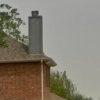Chimney: (25, 7, 52, 63)
